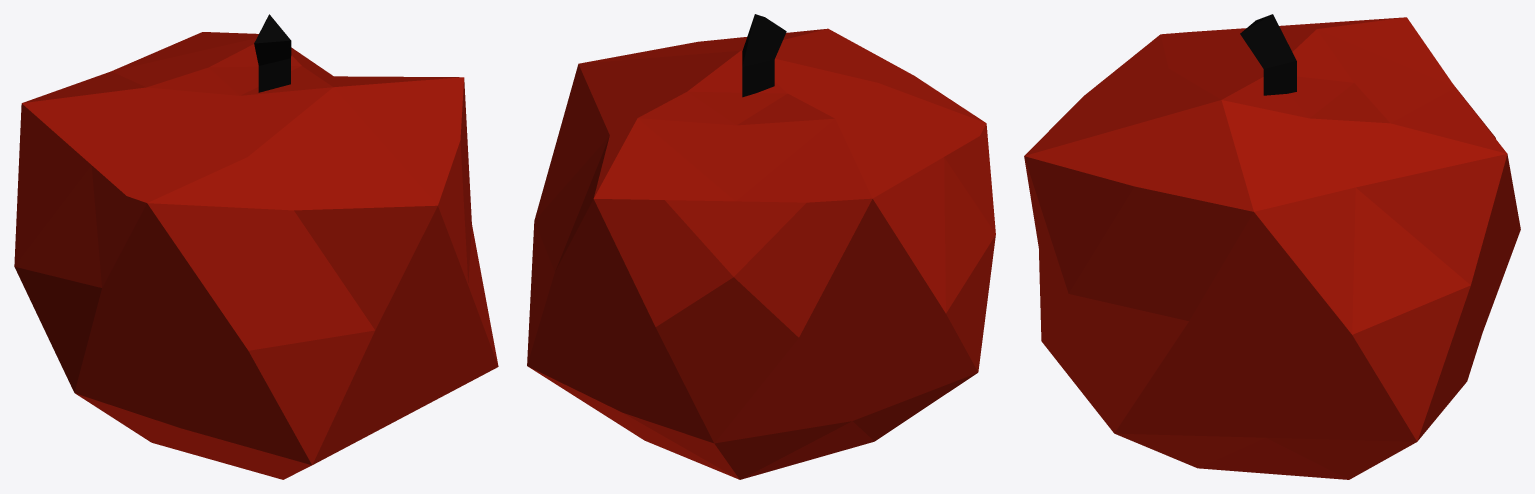
File: apple.fbx
The picture shows the model from 3 angles, left to right: view 1: azimuth 30°, elevation 25°; view 2: azimuth 150°, elevation 25°; view 3: azimuth 270°, elevation 25°; orthographic projection. The views are drawn at different scales.
Parts seen in each view (by area): view 1: Icosphere; view 2: Icosphere; view 3: Icosphere.
Boxes of the visible parts, box(x1,y1,x2,y2) form: Icosphere: box(14, 14, 498, 479); Icosphere: box(527, 14, 995, 479); Icosphere: box(1024, 14, 1520, 479).
Bounding box in the file's own units: 44.91 × 43.81 × 45.96.
